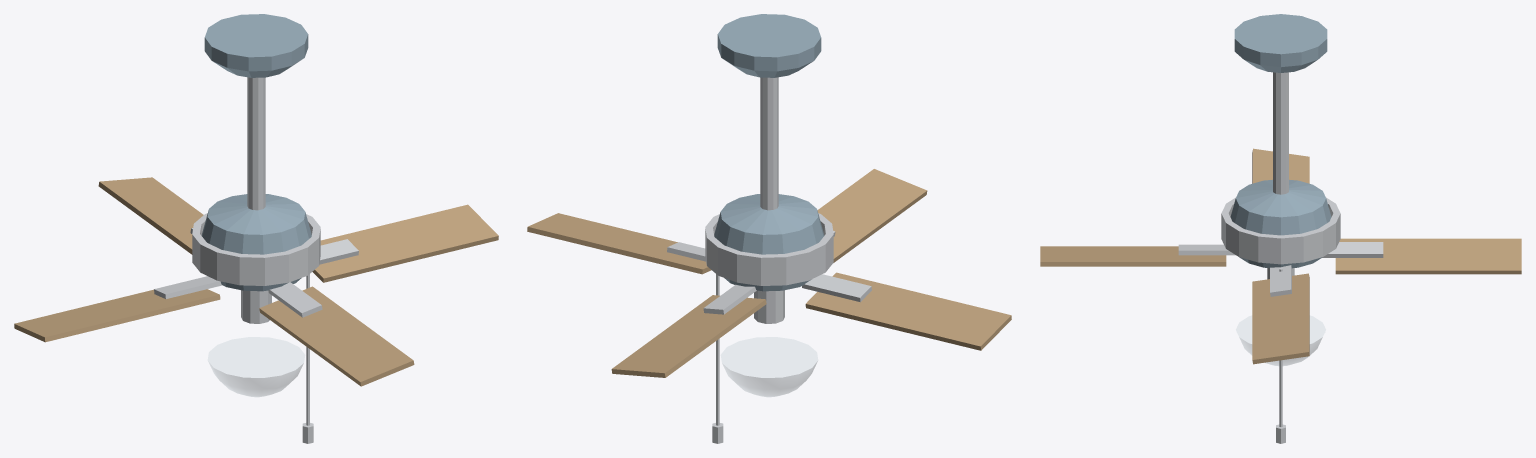
Rendered from animated-mechanisms-kit-ceiling-fan-a89512d8__24621.glb.
The picture shows the model from 3 angles, left to right: view 1: azimuth 30°, elevation 25°; view 2: azimuth 150°, elevation 25°; view 3: azimuth 270°, elevation 25°; orthographic projection. The views are drawn at different scales.
Parts seen in each view (by area): view 1: ceiling-fan, rotor/timber, rotor/steel; view 2: ceiling-fan, rotor/timber, rotor/steel; view 3: ceiling-fan, rotor/timber, rotor/steel.
Boxes of the visible parts, left/top/right/bottom form: ceiling-fan: left=192, top=14, right=320, bottom=443; rotor/timber: left=14, top=177, right=498, bottom=386; rotor/steel: left=154, top=228, right=358, bottom=317; ceiling-fan: left=705, top=14, right=833, bottom=443; rotor/timber: left=527, top=169, right=1011, bottom=377; rotor/steel: left=667, top=231, right=871, bottom=314; ceiling-fan: left=1221, top=14, right=1340, bottom=443; rotor/timber: left=1040, top=148, right=1521, bottom=364; rotor/steel: left=1178, top=242, right=1383, bottom=296.
Size of the model in its own units: 2.02 by 1.78 by 2.02.
